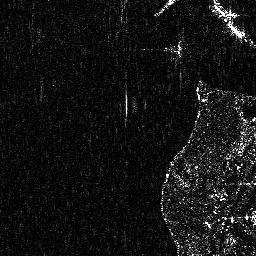ship: (209, 4, 246, 40)
